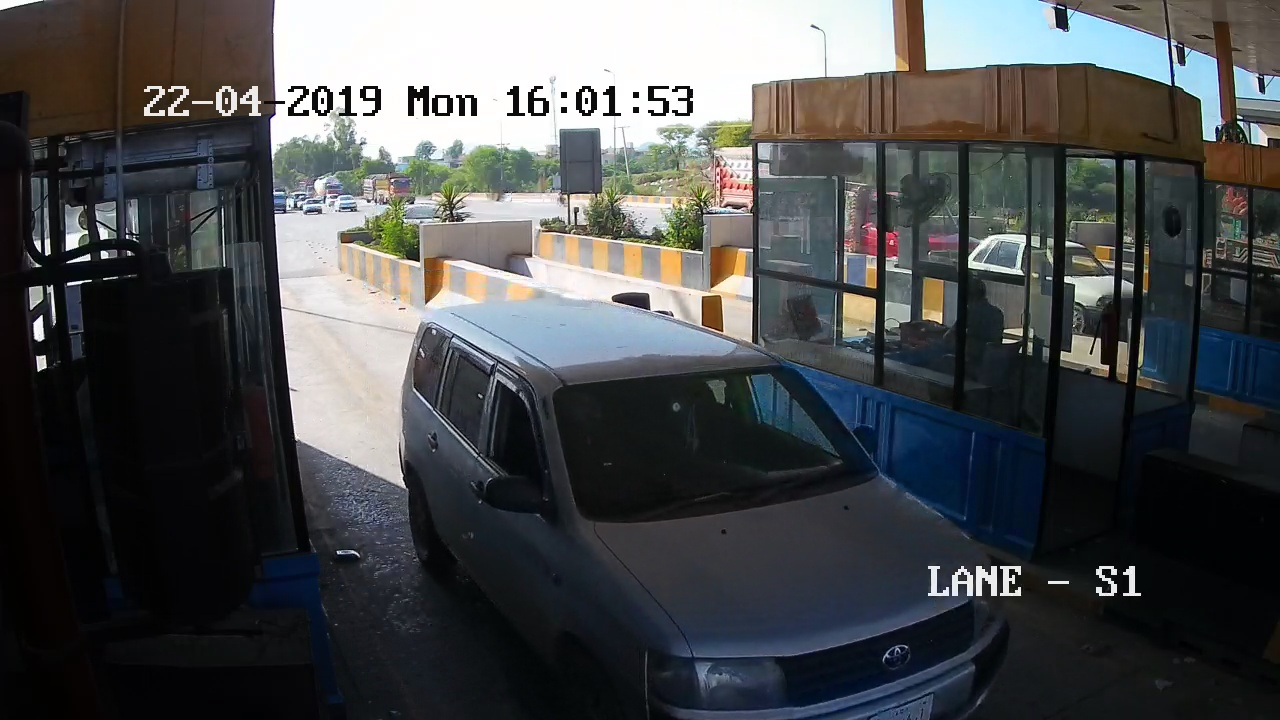car: (384, 296, 895, 702)
